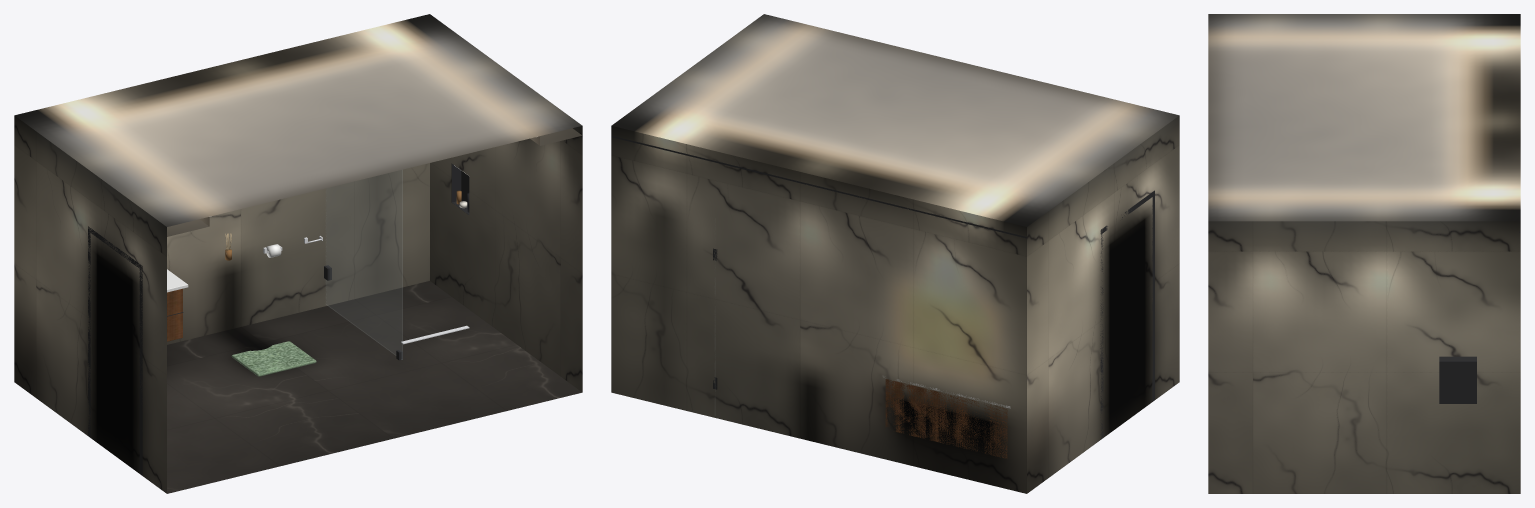
Rendered from bath_v5.glb.
The picture shows the model from 3 angles, left to right: view 1: azimuth 30°, elevation 25°; view 2: azimuth 150°, elevation 25°; view 3: azimuth 270°, elevation 25°; orthographic projection. The views are drawn at different scales.
Parts seen in each view (by area): view 1: Shell_Ceiling, Shell_Floor, Shell_Left Wall, Shell_Back Wall, Shell_Right Wall, Glass Panel, Toilet Mat, Door Frame, Vanity Cabinet, Niche; view 2: Shell_Back Wall, Shell_Ceiling, Shell_Left Wall, Vanity Cabinet, Door Frame, Shadow Gap; view 3: Shell_Right Wall, Shell_Ceiling, Niche.
Boxes of the visible parts, x1=… form: Shell_Ceiling: x1=15, y1=14, x2=582, y2=226; Shell_Floor: x1=167, y1=281, x2=581, y2=493; Shell_Left Wall: x1=14, y1=115, x2=166, y2=493; Shell_Back Wall: x1=167, y1=163, x2=429, y2=344; Shell_Right Wall: x1=430, y1=126, x2=582, y2=392; Glass Panel: x1=326, y1=170, x2=402, y2=359; Toilet Mat: x1=231, y1=341, x2=316, y2=376; Door Frame: x1=88, y1=226, x2=142, y2=475; Vanity Cabinet: x1=167, y1=288, x2=182, y2=341; Niche: x1=451, y1=163, x2=469, y2=214; Shell_Back Wall: x1=611, y1=126, x2=1026, y2=493; Shell_Ceiling: x1=611, y1=14, x2=1178, y2=226; Shell_Left Wall: x1=1027, y1=115, x2=1179, y2=493; Vanity Cabinet: x1=885, y1=379, x2=1007, y2=458; Door Frame: x1=1100, y1=190, x2=1154, y2=439; Shadow Gap: x1=611, y1=135, x2=1027, y2=238; Shell_Right Wall: x1=1208, y1=221, x2=1520, y2=493; Shell_Ceiling: x1=1208, y1=14, x2=1520, y2=221; Niche: x1=1439, y1=356, x2=1476, y2=403.
Bounding box in the file's own units: 4.51 × 2.7 × 2.8.
Materials: 17 (6 with a texture image).
